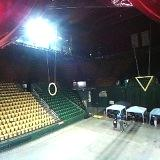Yellow_Circle_GShape: (48, 82, 58, 96)
Yellow_Triangle_Gshape: (135, 75, 153, 92)
